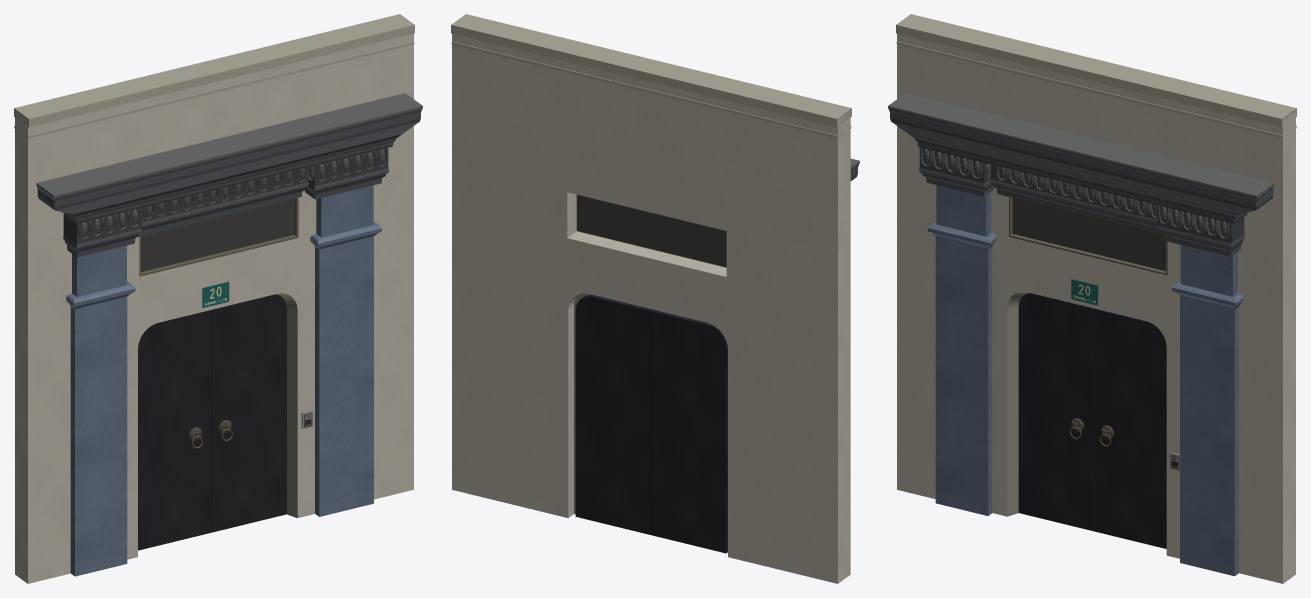
The model's file is xuhui-shaanxi-222-no20-residence-gate-lod.glb.
The picture shows the model from 3 angles, left to right: view 1: azimuth 30°, elevation 25°; view 2: azimuth 150°, elevation 25°; view 3: azimuth 330°, elevation 25°; orthographic projection.
Parts seen in each view (by area): view 1: 陕西南路222弄20号住宅院门; view 2: 陕西南路222弄20号住宅院门; view 3: 陕西南路222弄20号住宅院门.
Boxes of the visible parts, x1=… form: 陕西南路222弄20号住宅院门: x1=14, y1=14, x2=422, y2=583; 陕西南路222弄20号住宅院门: x1=451, y1=14, x2=859, y2=583; 陕西南路222弄20号住宅院门: x1=888, y1=14, x2=1296, y2=583.
Size of the model in its own units: 4.05 by 4.67 by 0.571.
20 materials, 3 textured.
